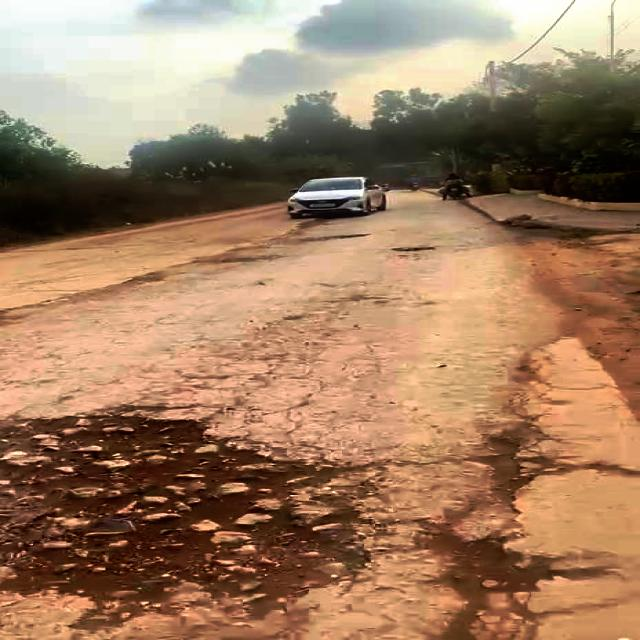pothole: (0, 401, 381, 619), (406, 524, 584, 640)
